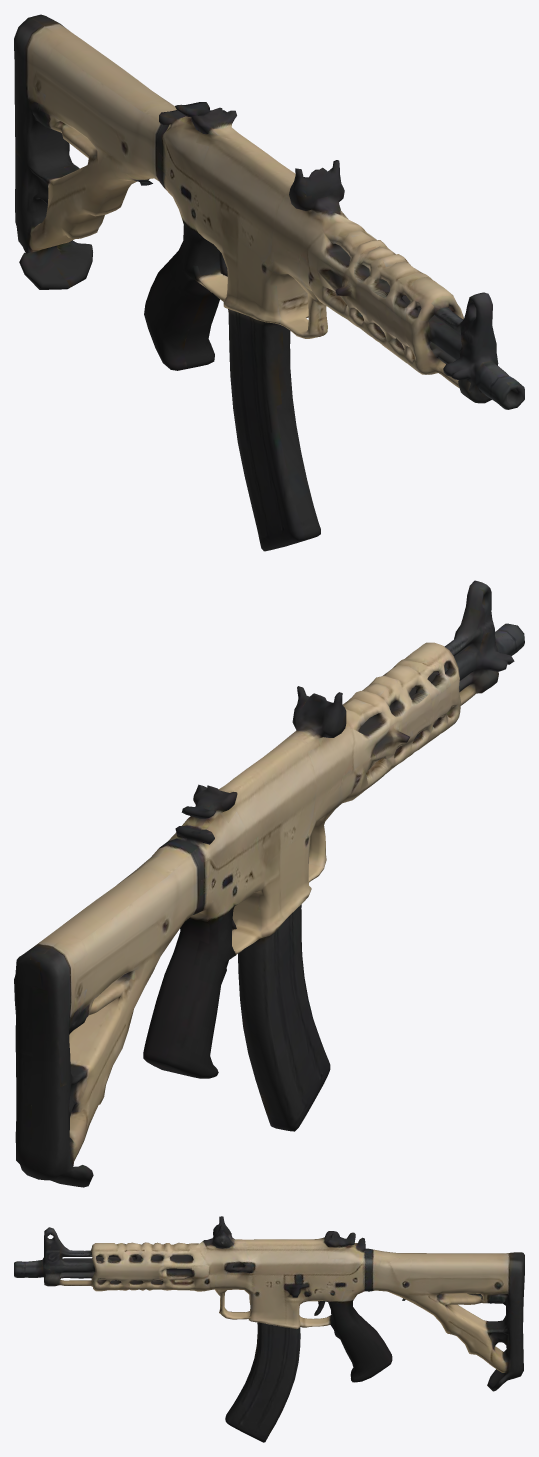
The model's file is w_smg.glb.
3 views of the same model, one above another, from view 1: azimuth 30°, elevation 25°; view 2: azimuth 150°, elevation 25°; view 3: azimuth 270°, elevation 25° (orthographic). The views are drawn at different scales.
Visible parts, largest first — view 1: model; view 2: model; view 3: model.
Part boxes in pixels (left/top/right/bottom): model: left=14, top=14, right=524, bottom=551; model: left=14, top=580, right=524, bottom=1187; model: left=14, top=1216, right=524, bottom=1442.
Bounding box in the file's own units: 0.1689 × 0.8986 × 1.9.
Materials: 1 (1 with a texture image).
